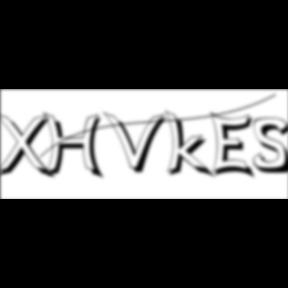E: (210, 110, 260, 182)
H: (43, 112, 109, 182)
V: (104, 110, 170, 176)
X: (1, 112, 58, 182)
k: (164, 108, 217, 181)
